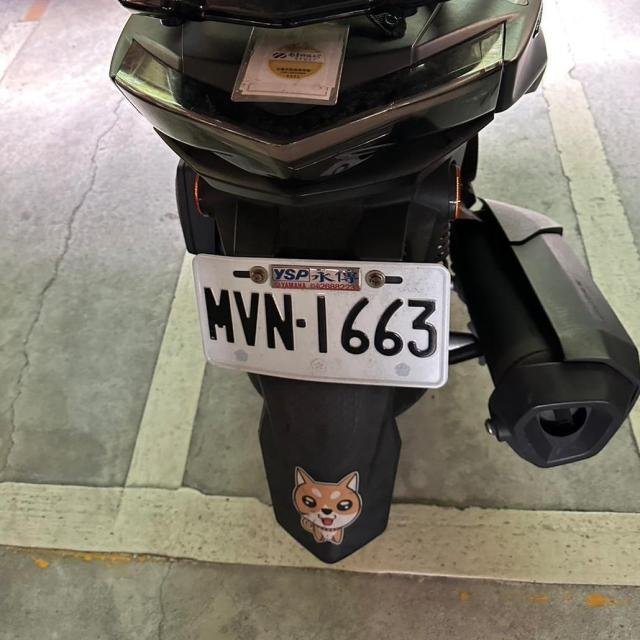W: (184, 250, 453, 391)
